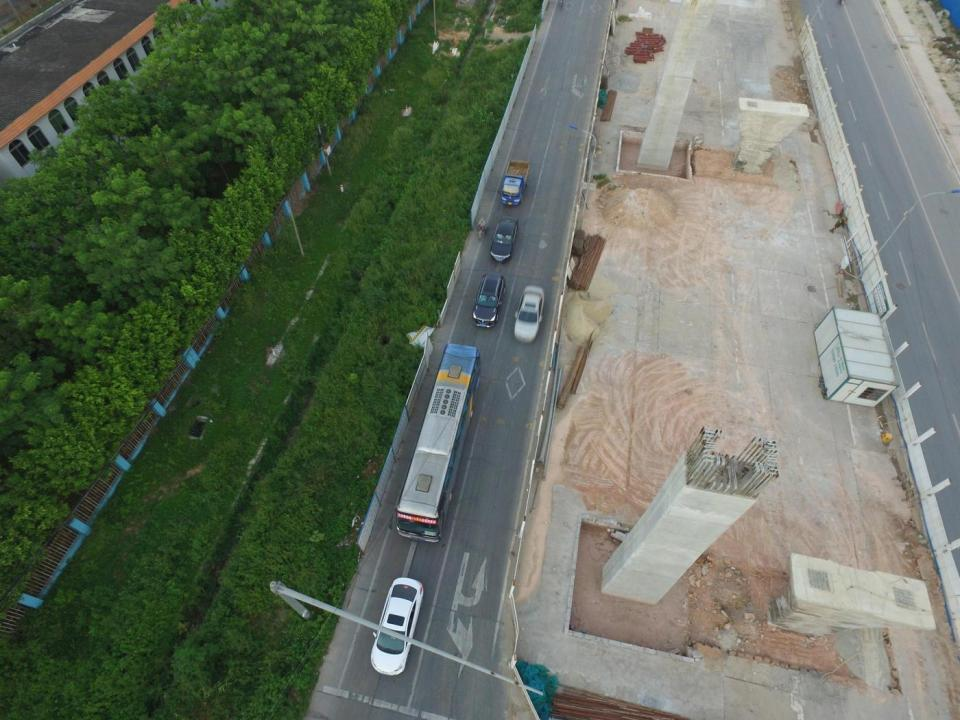bus: (393, 344, 479, 542)
car: (370, 578, 423, 677), (512, 283, 545, 346), (474, 276, 505, 329), (492, 216, 517, 264)
truck: (502, 159, 530, 206)
